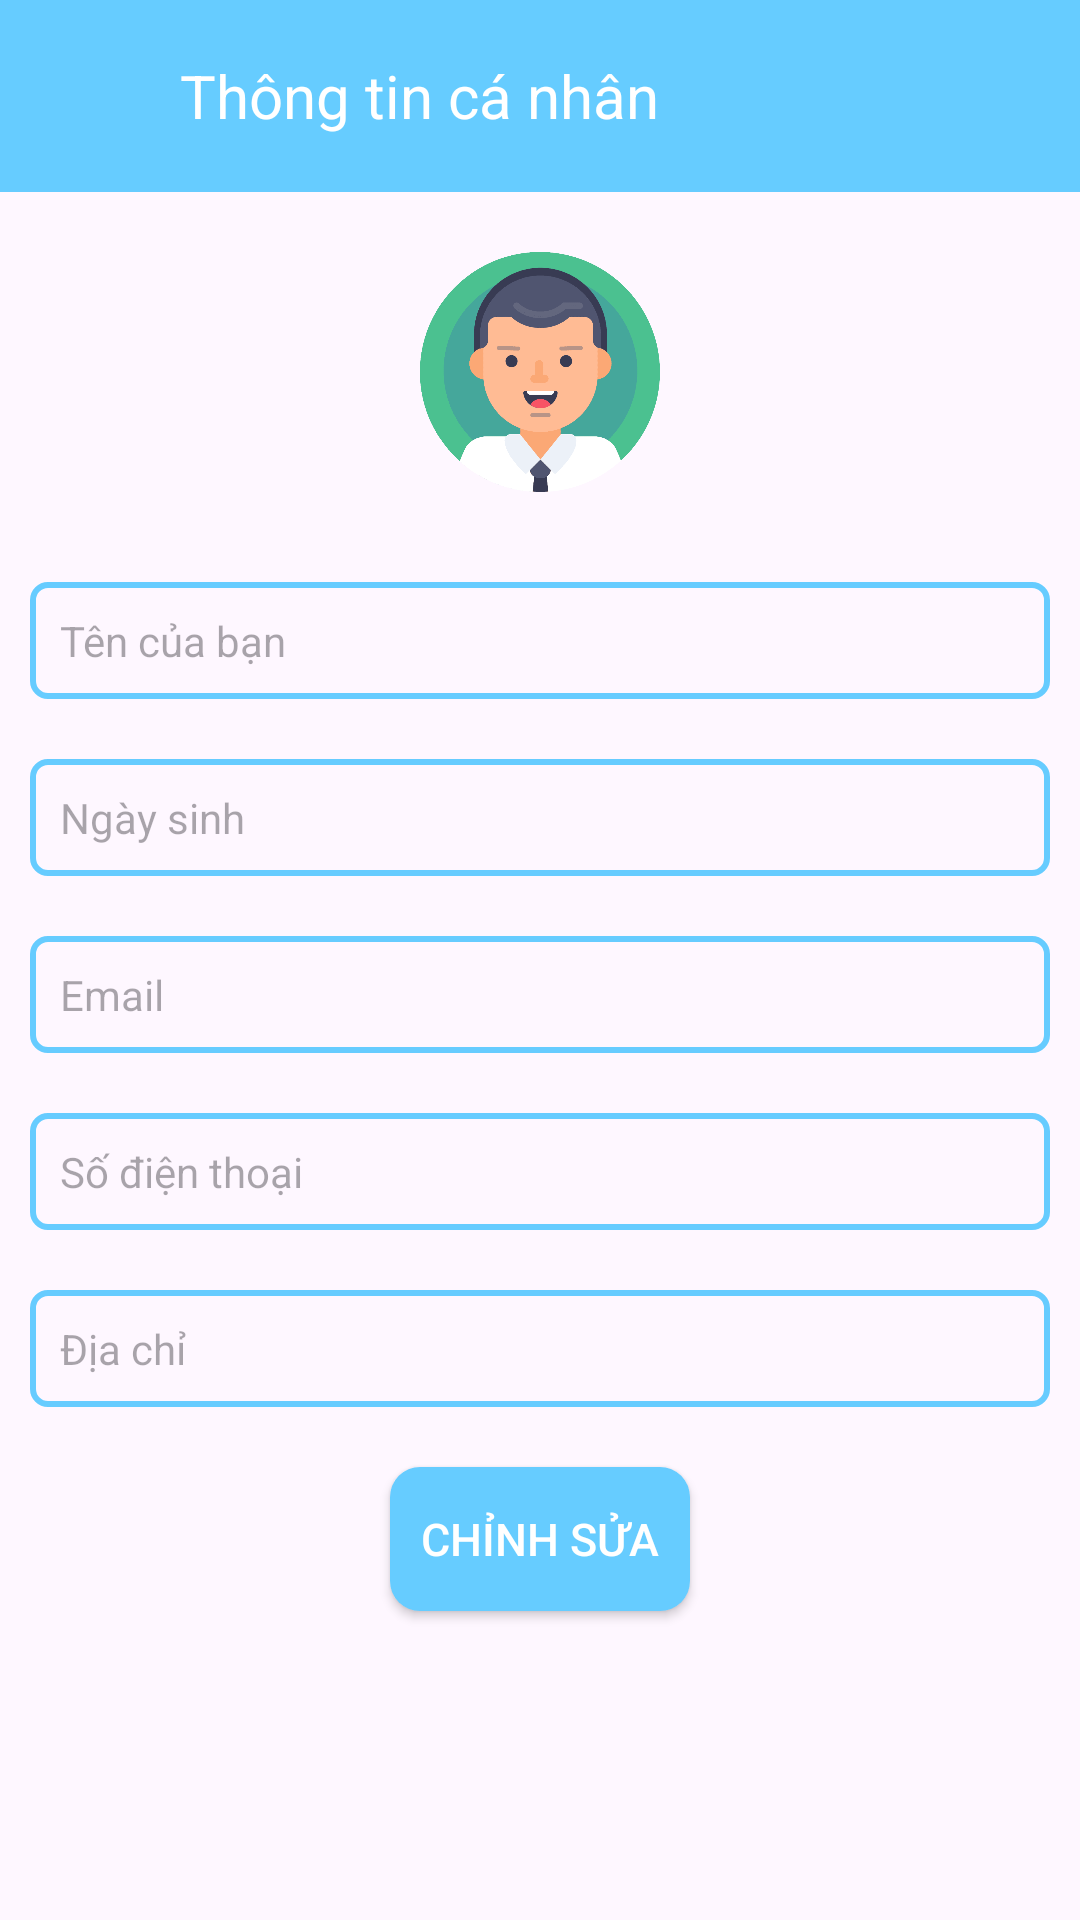

Icons on this 1080 × 1920 Android screen, each with the point to tap as [x,y]:
nam: [540,372]
